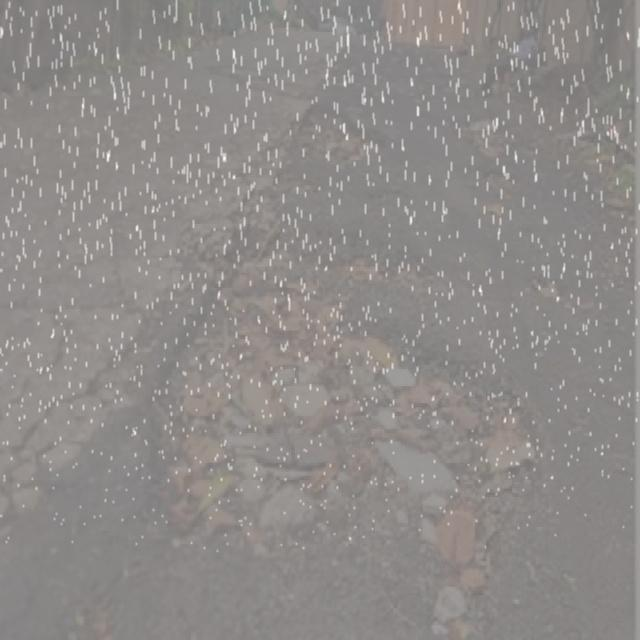Pothole: (151, 234, 546, 640)
